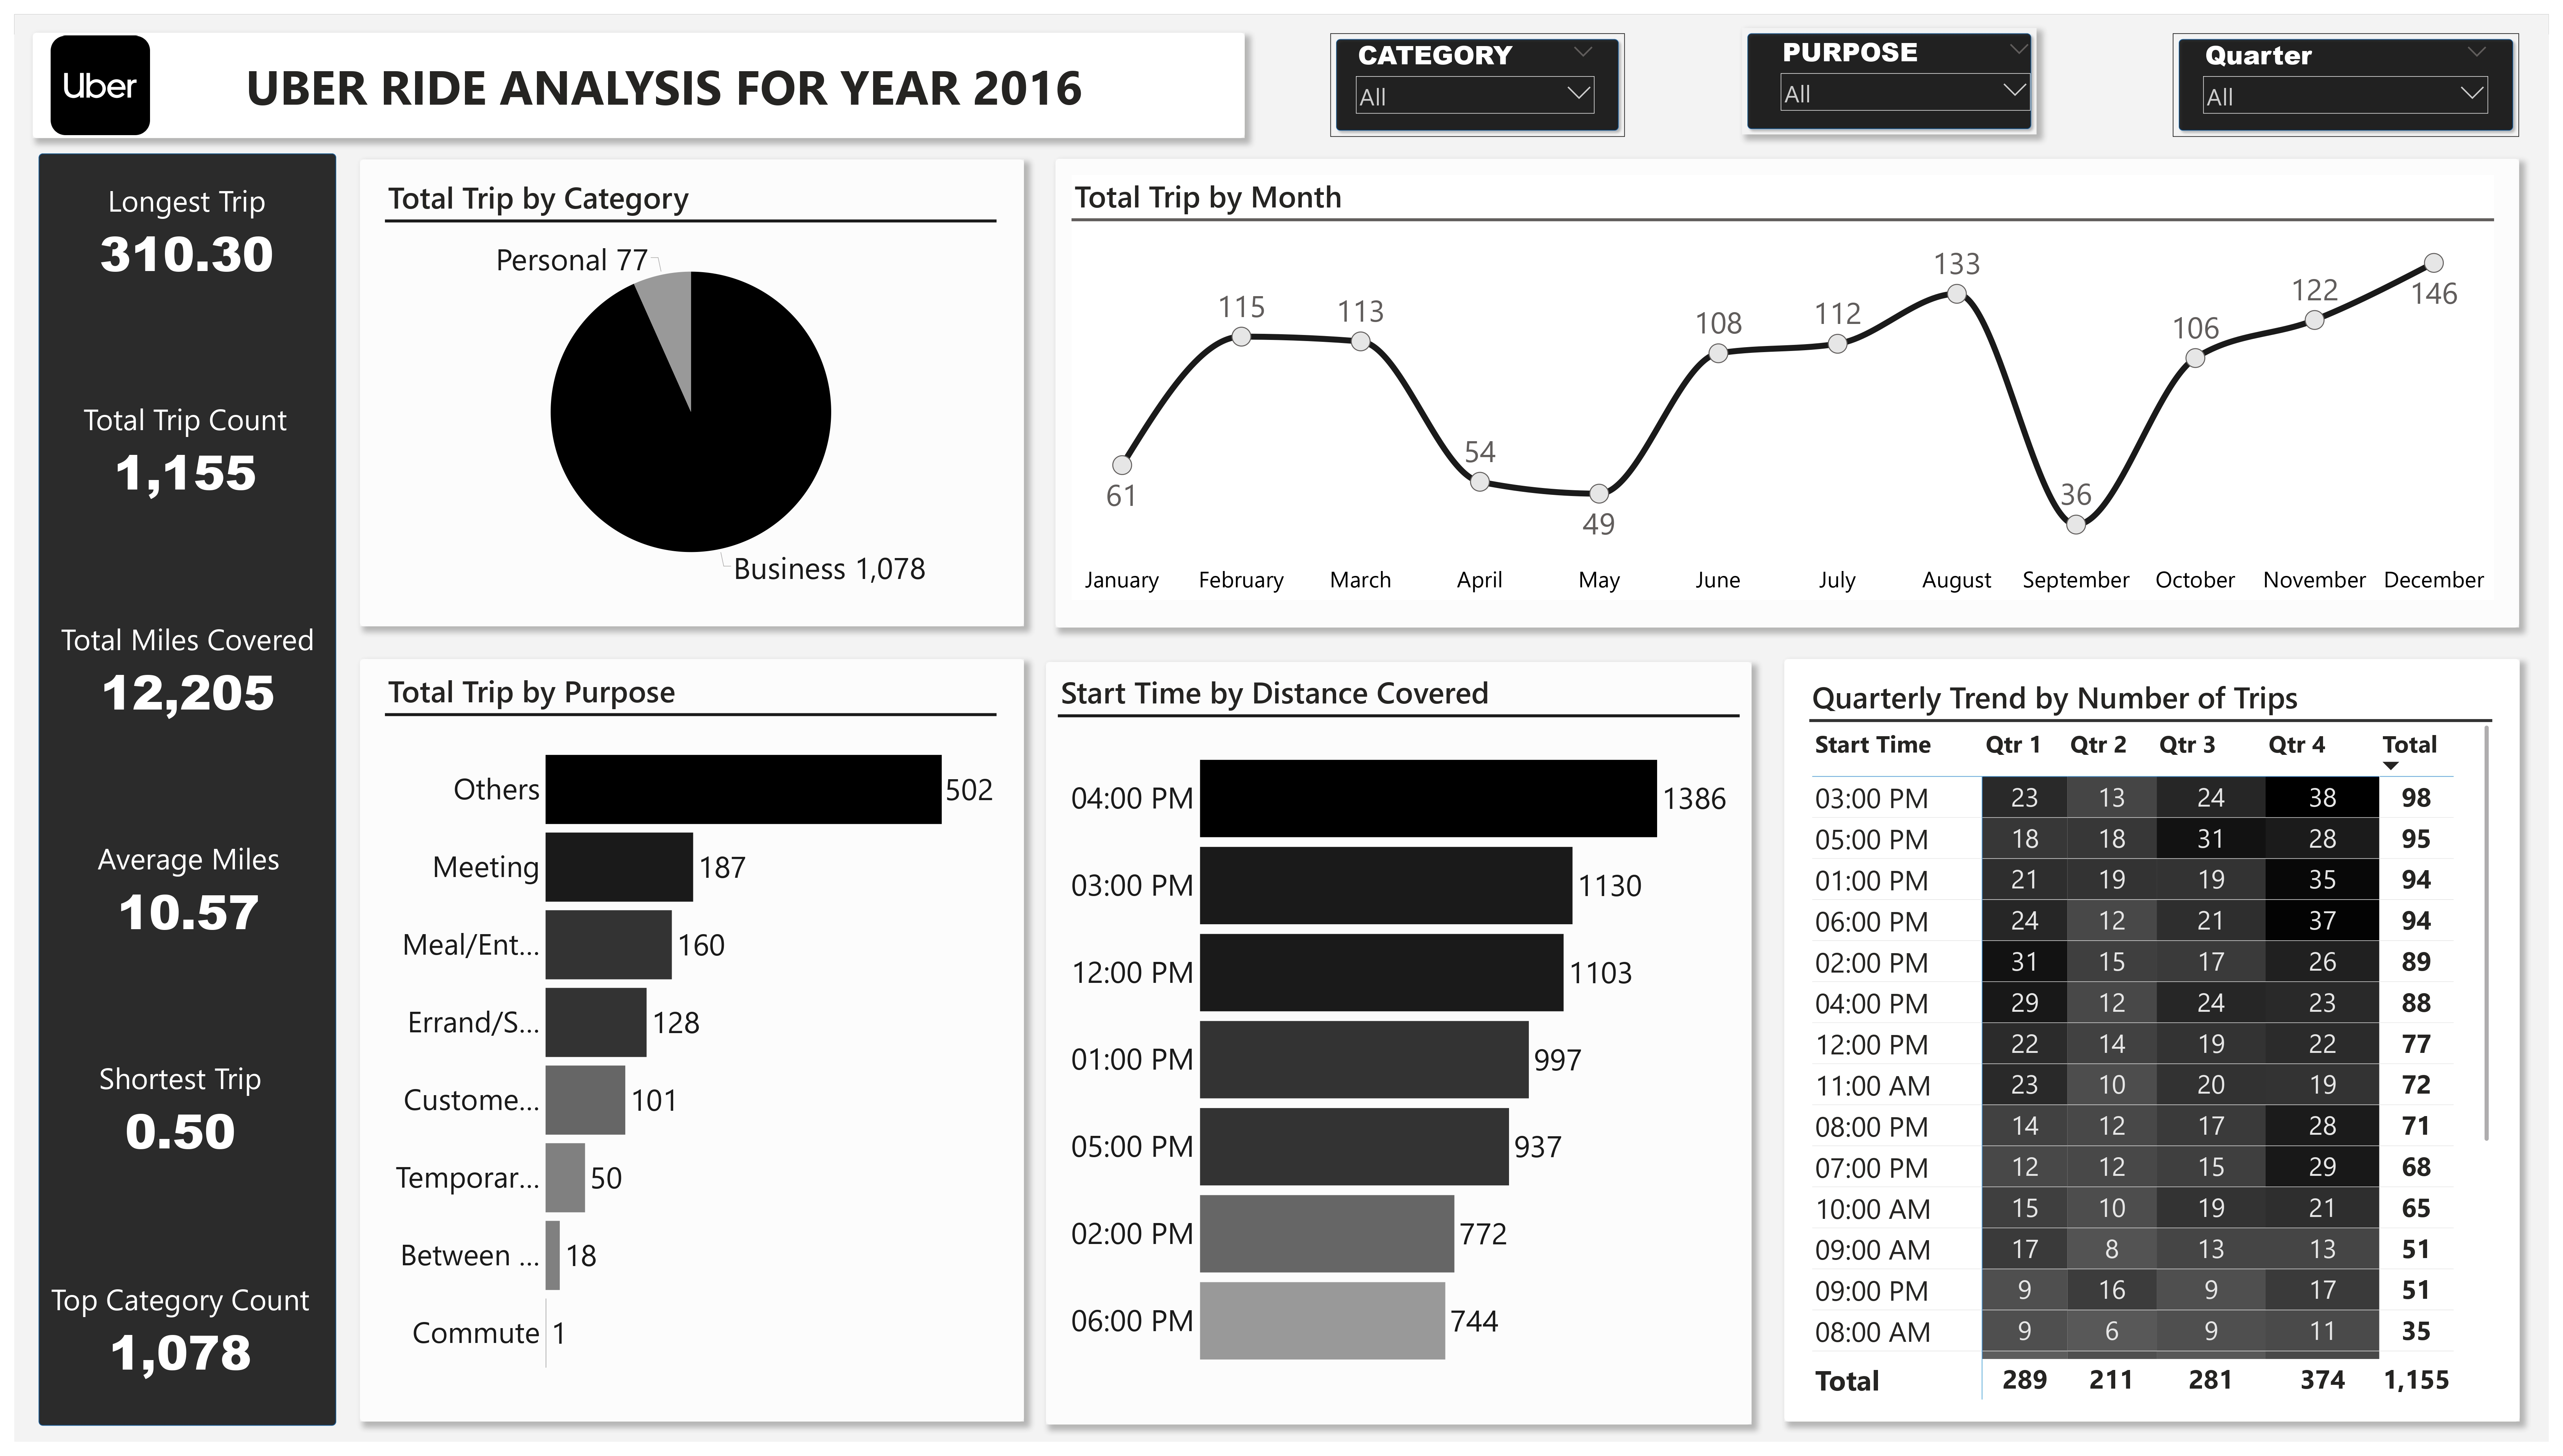

This screenshot's page, from the dashboard's own definition file:
{"tool":"powerbi","page":{"name":"DASHBOARD","canvas":[4260,2400],"ordinal":0},"visuals":[{"type":"shape","box":[41.2,233.6,499.3,2139.2],"z":0},{"type":"shape","box":[31,31,2036.9,177.1],"z":1000,"group":"g1"},{"type":"group","id":"g1","title":"Group 1","box":[31,31,2036.9,177.1],"z":1000},{"type":"textbox","box":[201.8,61.1,1780.7,147],"z":2000,"group":"g1"},{"type":"cardVisual","fields":{"Data":["All Measures.Longest Trip"]},"box":[39.9,243.5,500.4,248],"z":2000},{"type":"image","box":[43.8,31,200.7,177.1],"z":3000,"group":"g1"},{"type":"cardVisual","fields":{"Data":["All Measures.Total Trip"]},"box":[39.9,611,495.9,248],"z":3000},{"type":"cardVisual","fields":{"Data":["All Measures.Total Miles"]},"box":[44.3,978.5,495.9,252.4],"z":4000},{"type":"cardVisual","fields":{"Data":["All Measures.Average Miles"]},"box":[45.8,1350.4,494.7,247.4],"z":5000},{"type":"cardVisual","fields":{"Data":["CountNonNull(UberDataset.CATEGORY)"]},"box":[32.1,2088.8,494.7,251.9],"z":6000},{"type":"cardVisual","fields":{"Data":["All Measures.Shortest Trip"]},"box":[32.1,1717.3,494.7,251.9],"z":7000},{"type":"shape","box":[2212.5,32.1,494.7,174.1],"z":8000},{"type":"shape","box":[2904.1,22.9,494.7,178.6],"z":9000},{"type":"shape","box":[3627.9,32.1,581.7,174.1],"z":10000},{"type":"slicer","fields":{"Values":["UberDataset.CATEGORY"]},"box":[2244.5,32.1,421.4,174.1],"z":11000},{"type":"slicer","fields":{"Values":["UberDataset.PURPOSE"]},"box":[2959.1,27.5,439.7,169.5],"z":12000},{"type":"slicer","fields":{"Values":["UberDataset.START DATE.Variation.Date Hierarchy.Quarter"]},"box":[3669.1,32.1,499.3,169.5],"z":13000},{"type":"shape","box":[581.2,244.5,1116.2,784.1],"z":14000},{"type":"shape","box":[581.2,1083.9,1116.2,1282.3],"z":15000},{"type":"shape","box":[1749.8,242.8,2459.8,787.9],"z":16000},{"type":"shape","box":[1734.3,1088.6,1185.4,1282.3],"z":17000},{"type":"shape","box":[2975.1,1083.9,1236.2,1282.3],"z":18000},{"type":"clusteredBarChart","title":"Total Trip by Purpose","fields":{"Category":["UberDataset.PURPOSE"],"Y":["All Measures.Total Trip"]},"box":[622.7,1102.4,1028.6,1231.5],"z":19000},{"type":"lineChart","fields":{"Category":["UberDataset.START DATE.Variation.Date Hierarchy.Month"],"Y":["All Measures.Total Trip"]},"box":[1777.3,270.3,2391.1,714.6],"z":20000},{"type":"pieChart","title":"Total Trip by Category","fields":{"Category":["UberDataset.CATEGORY"],"Y":["All Measures.Total Trip"]},"box":[622.7,272.1,1028.6,714.9],"z":21000},{"type":"barChart","title":"Start Time by Distance Covered","fields":{"Category":["UberDataset.Start Time Group"],"Y":["All Measures.Total Miles"]},"box":[1754.4,1103.9,1145.2,1223],"z":22000},{"type":"pivotTable","title":"Quarterly Trend by Number of Trips","fields":{"Values":["All Measures.Total Trip"],"Columns":["UberDataset.START DATE.Variation.Date Hierarchy.Quarter"],"Rows":["UberDataset.Start Time Group"]},"box":[3016.6,1111.6,1148.5,1222.3],"z":23000}]}

Visuals, with their boxes in screenshot pixels (x1, y1, x2, y2):
shape: 39,153,336,1426
shape: 33,33,1244,138
"Group 1" group: 33,33,1244,138
textbox: 134,51,1194,138
cardVisual - All Measures.Longest Trip: 38,159,336,306
image: 40,33,160,138
cardVisual - All Measures.Total Trip: 38,378,333,525
cardVisual - All Measures.Total Miles: 41,596,336,746
cardVisual - All Measures.Average Miles: 42,818,336,965
cardVisual - CountNonNull(UberDataset.CATEGORY): 34,1257,328,1407
cardVisual - All Measures.Shortest Trip: 34,1036,328,1185
shape: 1330,33,1625,137
shape: 1742,28,2036,134
shape: 2173,33,2519,137
slicer - UberDataset.CATEGORY: 1349,33,1600,137
slicer - UberDataset.PURPOSE: 1775,30,2036,131
slicer - UberDataset.START DATE.Variation.Date Hierarchy.Quarter: 2197,33,2494,134
shape: 360,160,1024,626
shape: 360,659,1024,1422
shape: 1055,159,2519,627
shape: 1046,662,1751,1424
shape: 1784,659,2520,1422
"Total Trip by Purpose" clusteredBarChart: 385,670,997,1402
lineChart - UberDataset.START DATE.Variation.Date Hierarchy.Month x All Measures.Total Trip: 1072,175,2494,600
"Total Trip by Category" pieChart: 385,176,997,601
"Start Time by Distance Covered" barChart: 1058,671,1739,1398
"Quarterly Trend by Number of Trips" pivotTable: 1809,675,2492,1402
